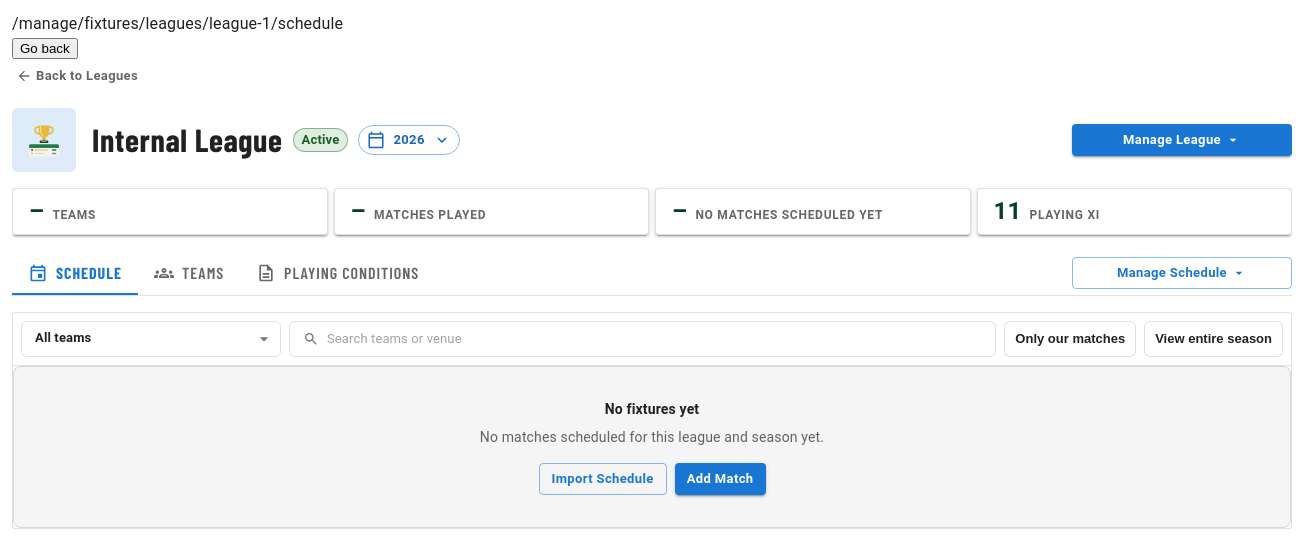
Test: LeagueViewLayout › routes › replaces the bare URL in history rather than pushing the redirect
expect the text "No fixtures yet" is shown: met, box [605, 399, 699, 419]
Click the button "Go back".
click(45, 48)  # box [12, 38, 78, 59]
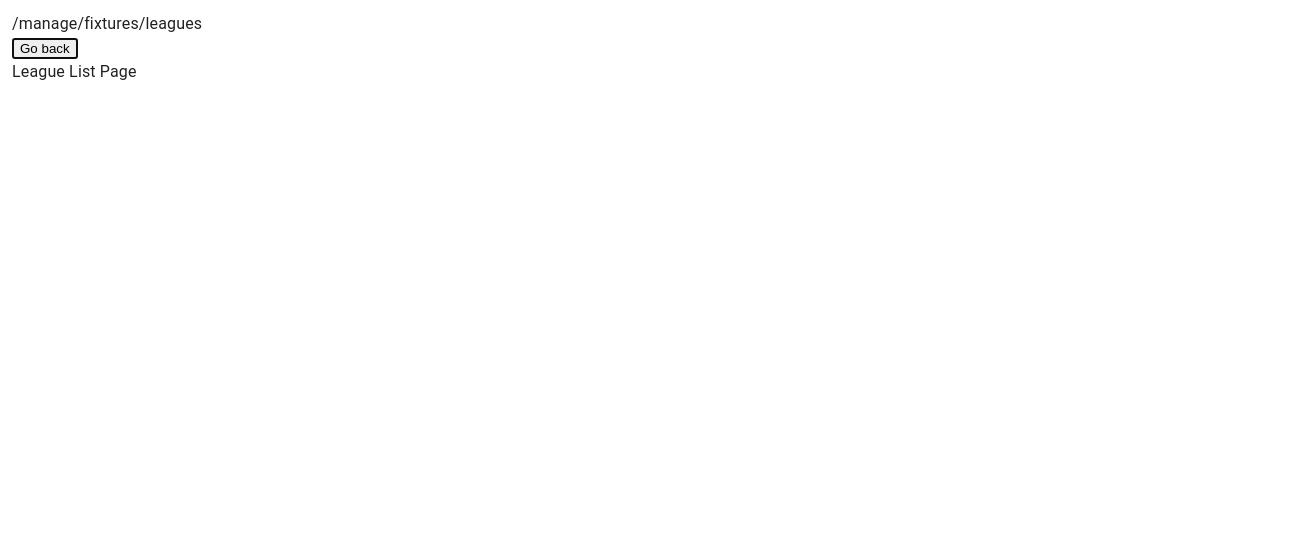
expect the text "League List Page" is shown: met, box [12, 62, 137, 81]
